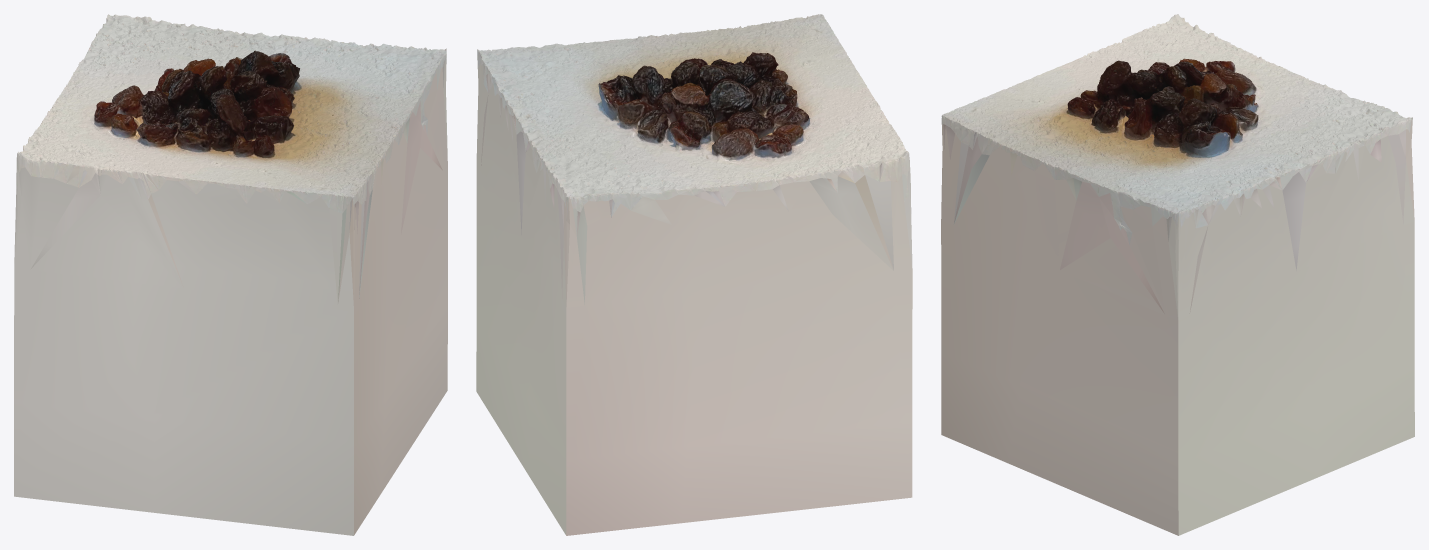
The model's file is date-2.glb.
3 views of the same model, side by side, from view 1: azimuth 30°, elevation 25°; view 2: azimuth 150°, elevation 25°; view 3: azimuth 270°, elevation 25° (orthographic). The views are drawn at different scales.
Parts seen in each view (by area): view 1: Object_4; view 2: Object_4; view 3: Object_4.
Part boxes in pixels (box(x1,y1,x2,y2)): Object_4: box(14, 14, 447, 535); Object_4: box(476, 14, 912, 535); Object_4: box(941, 14, 1414, 535).
Bounding box in the file's own units: 0.162 × 0.136 × 0.1621.
Materials: 1 (1 with a texture image).
